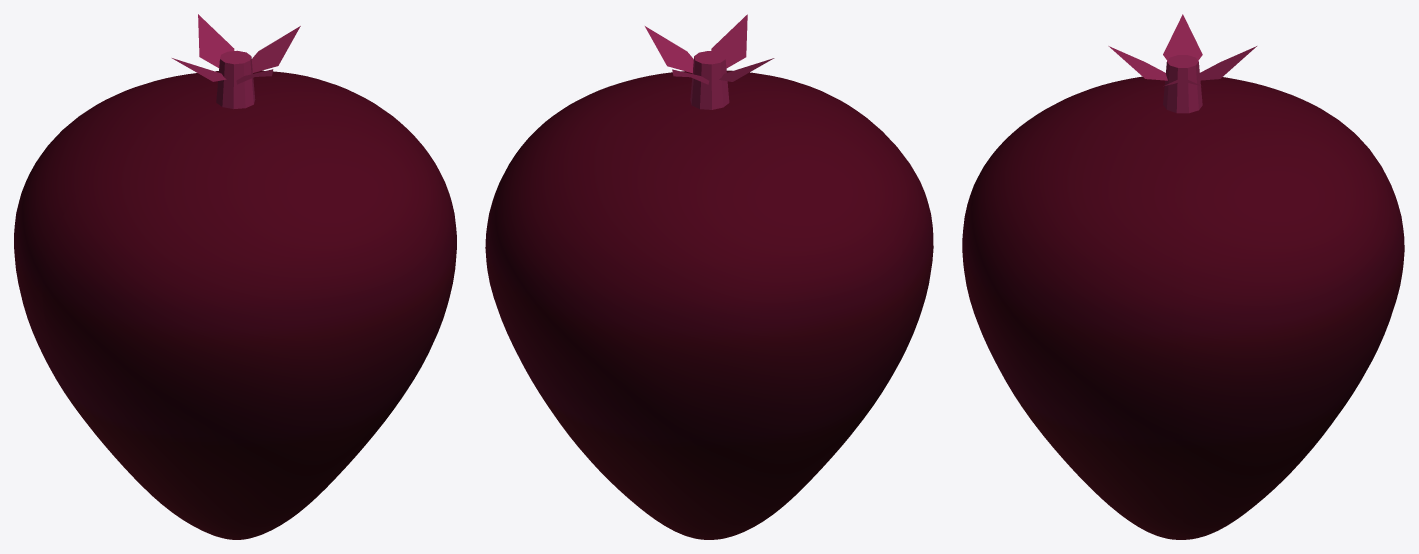
The model's file is betterave.glb.
3 views of the same model, side by side, from view 1: azimuth 30°, elevation 25°; view 2: azimuth 150°, elevation 25°; view 3: azimuth 270°, elevation 25° (orthographic).
Visible parts, largest first — view 1: entier_peau, moitie_B_peau, entier_extra0, moitie_A_peau; view 2: entier_peau, moitie_A_peau, entier_extra0, moitie_B_peau; view 3: entier_peau, moitie_A_peau, moitie_B_peau, entier_extra0.
Part boxes in pixels (x1,y1,x2,y2): entier_peau: [14, 70, 456, 539]; moitie_B_peau: [42, 92, 456, 539]; entier_extra0: [172, 14, 300, 109]; moitie_A_peau: [14, 71, 372, 504]; entier_peau: [485, 70, 933, 539]; moitie_A_peau: [485, 93, 903, 539]; entier_extra0: [645, 14, 774, 109]; moitie_B_peau: [571, 77, 933, 480]; entier_peau: [962, 76, 1404, 539]; moitie_A_peau: [1183, 100, 1404, 539]; moitie_B_peau: [962, 79, 1182, 539]; entier_extra0: [1108, 14, 1256, 113].
Bounding box in the file's own units: 1.78 × 2.16 × 1.77.
